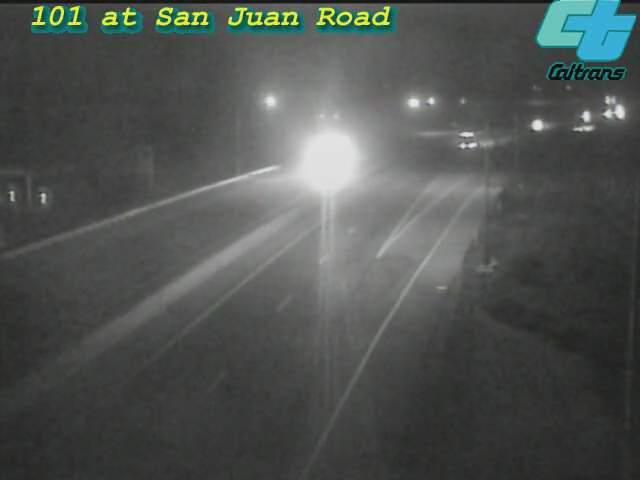vehicle: (300, 135, 350, 185), (513, 99, 563, 149), (552, 104, 602, 154), (446, 112, 496, 162), (558, 93, 608, 143), (582, 89, 632, 139), (595, 87, 640, 137)
